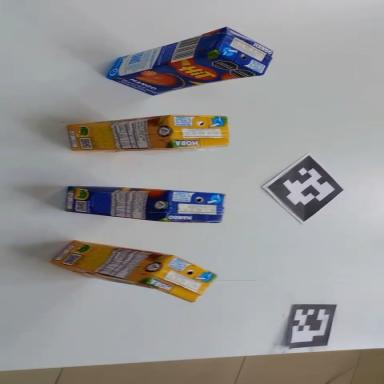HIT-MANGO: (101, 19, 277, 103), (65, 182, 225, 226)
HIT-MORA: (51, 228, 218, 306), (67, 114, 229, 151)
cara_F: (108, 44, 261, 104), (52, 264, 193, 302)
